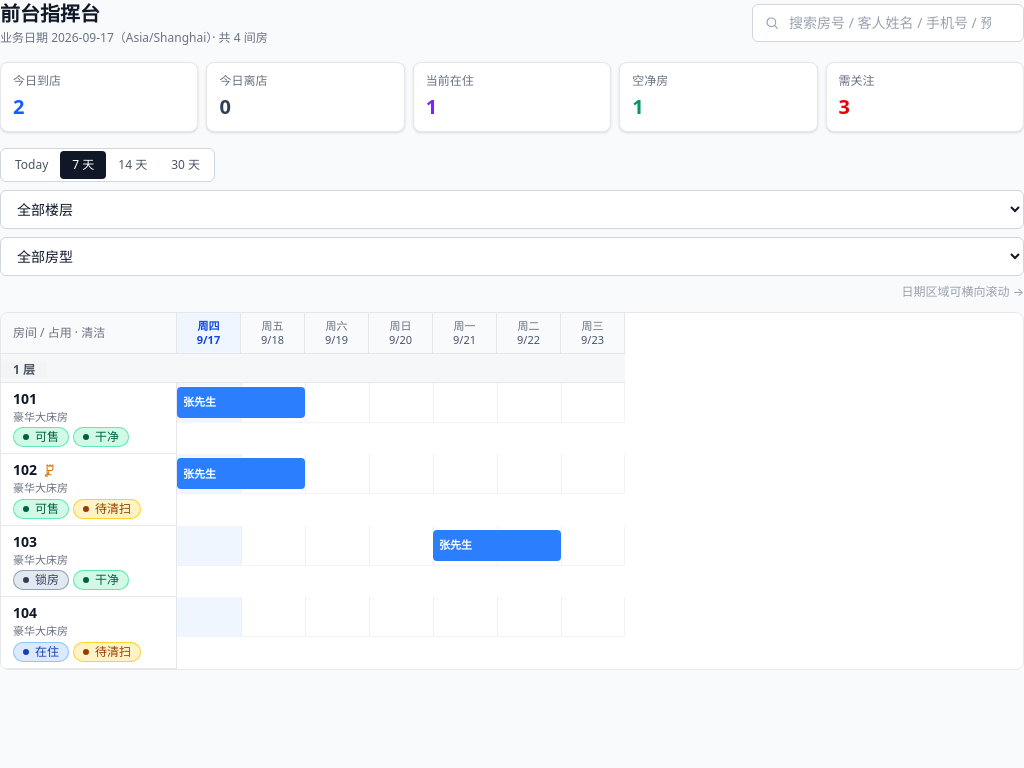
Search › 房号 → 打开 Room Drawer（本地匹配，不发起 PII 搜索）
The width and height of the screenshot is (1024, 768).
Check: the button "需关注 3" is shown, box top-left (826, 62), bottom-right (1023, 132)
Type "104" into the field named "搜索房号、客人、预订单号" at (888, 23), box top-left (752, 4), bottom-right (1023, 42)
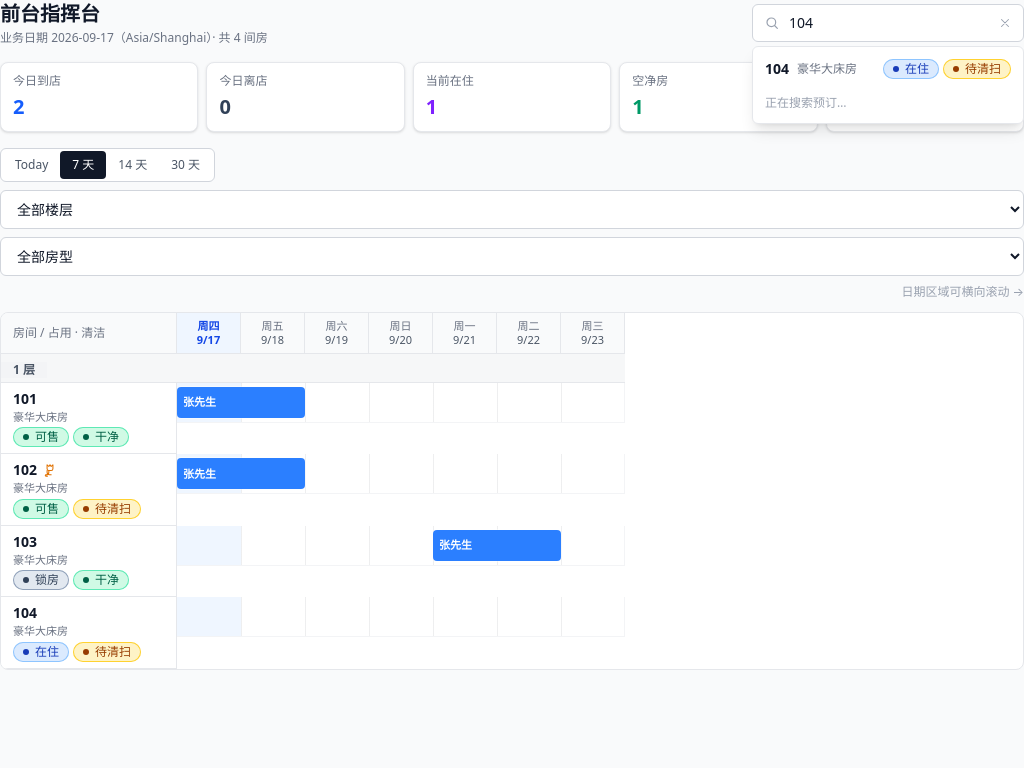
Check: the button "104 豪华大床房 在住 待清扫" is shown
Click the button "104 豪华大床房 在住 待清扫" at (888, 69), box top-left (753, 51), bottom-right (1023, 87)
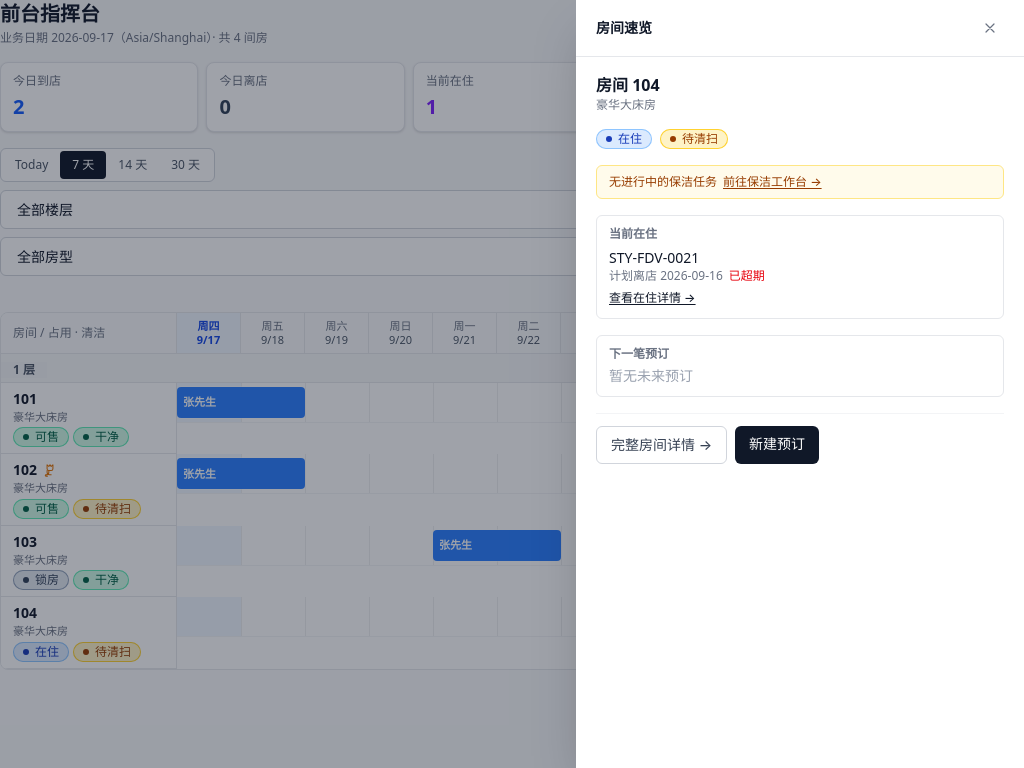
Check: the text "房间 104" is shown, box top-left (596, 74), bottom-right (660, 96)
